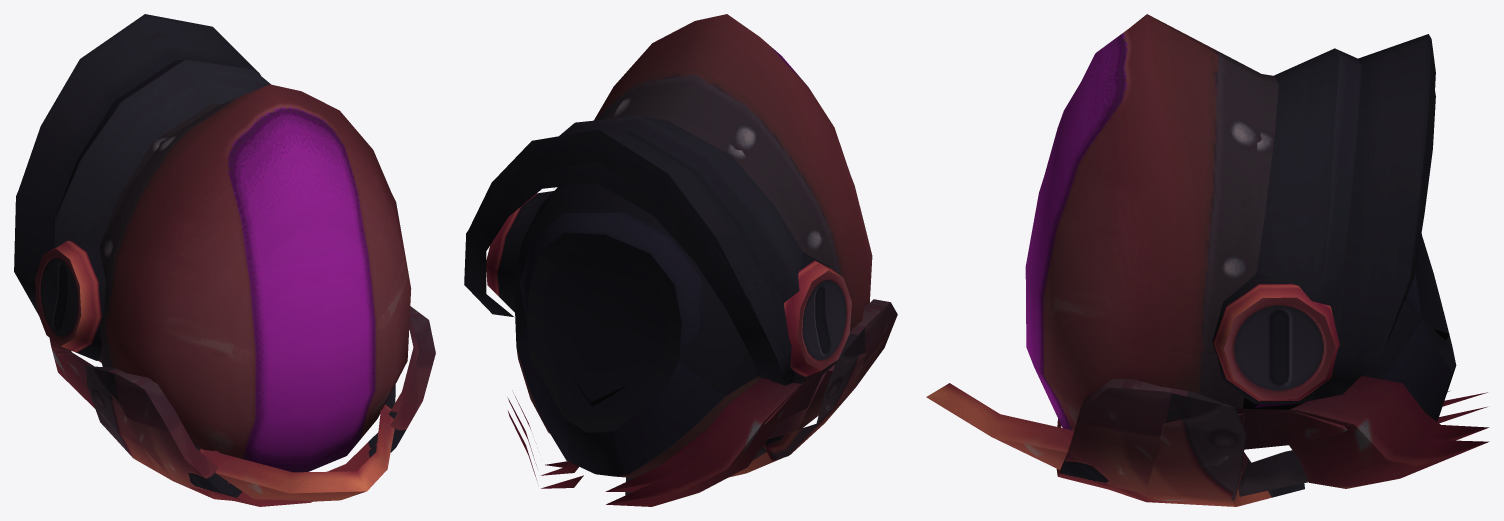
File: model_vol.glb
3 views of the same model, side by side, from view 1: azimuth 30°, elevation 25°; view 2: azimuth 150°, elevation 25°; view 3: azimuth 270°, elevation 25° (orthographic). The views are drawn at different scales.
Parts seen in each view (by area): view 1: warden.model_vol-MeshSets[helm_warden_3].Mesh[0], warden.model_vol-MeshSets[helm_warden_1].Mesh[0], warden.model_vol-MeshSets[helm_warden_2].Mesh[0]; view 2: warden.model_vol-MeshSets[helm_warden_2].Mesh[0], warden.model_vol-MeshSets[helm_warden_3].Mesh[0], warden.model_vol-MeshSets[helm_warden_1].Mesh[0]; view 3: warden.model_vol-MeshSets[helm_warden_3].Mesh[0], warden.model_vol-MeshSets[helm_warden_2].Mesh[0], warden.model_vol-MeshSets[helm_warden_1].Mesh[0].
Part boxes in pixels (x1,y1,x2,y2): warden.model_vol-MeshSets[helm_warden_3].Mesh[0]: (18,14,395,501); warden.model_vol-MeshSets[helm_warden_1].Mesh[0]: (35,103,435,506); warden.model_vol-MeshSets[helm_warden_2].Mesh[0]: (14,187,423,501); warden.model_vol-MeshSets[helm_warden_2].Mesh[0]: (464,161,884,491); warden.model_vol-MeshSets[helm_warden_3].Mesh[0]: (464,14,852,506); warden.model_vol-MeshSets[helm_warden_1].Mesh[0]: (486,114,897,488); warden.model_vol-MeshSets[helm_warden_3].Mesh[0]: (926,14,1489,496); warden.model_vol-MeshSets[helm_warden_2].Mesh[0]: (1025,91,1489,506); warden.model_vol-MeshSets[helm_warden_1].Mesh[0]: (1025,73,1450,500).
Size of the model in its own units: 0.5068 by 0.6382 by 0.6855.
Materials: 2 (2 with a texture image).
